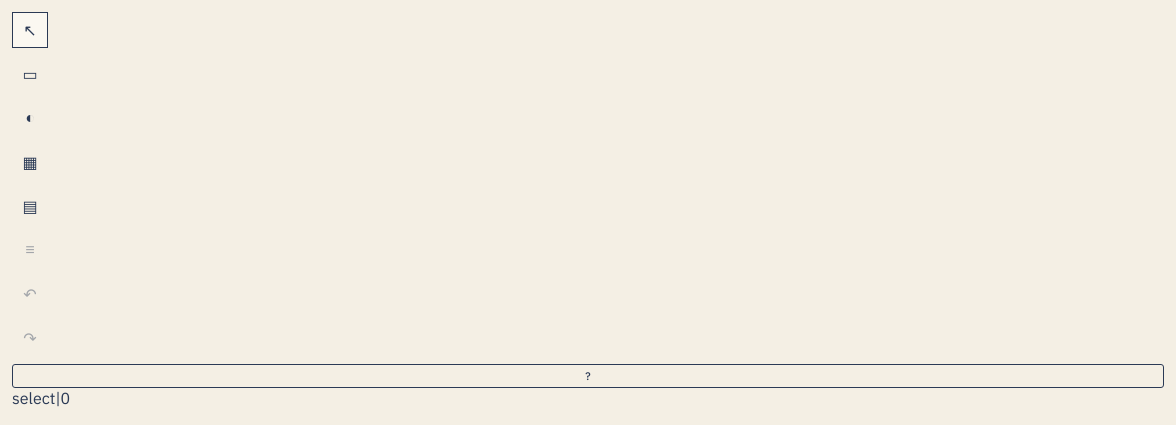
Toolbar › Sélection est actif au départ et un clic change d'outil
Click the button named "Pièce (P)": {"x": 30, "y": 74} [12,56,48,92]
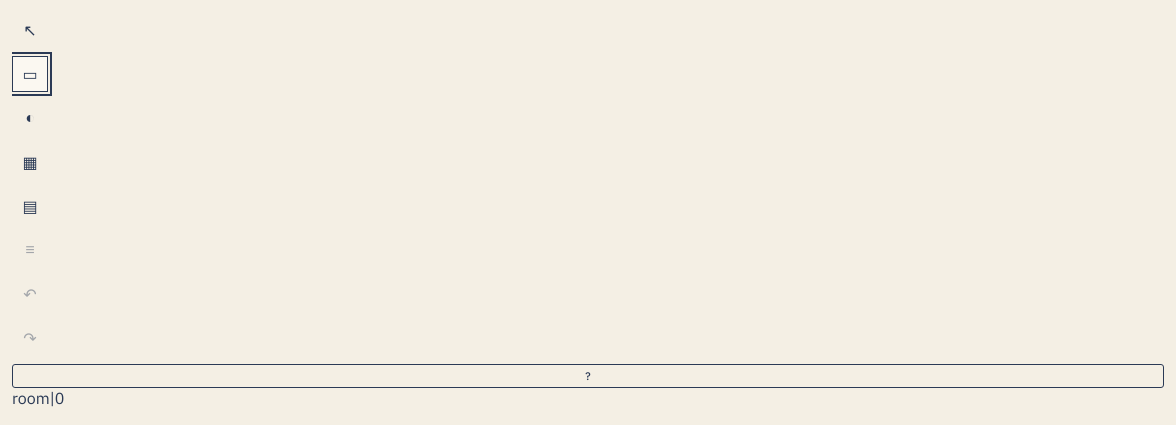
Check: the text "room|0" is shown, box [12,388,64,408]
